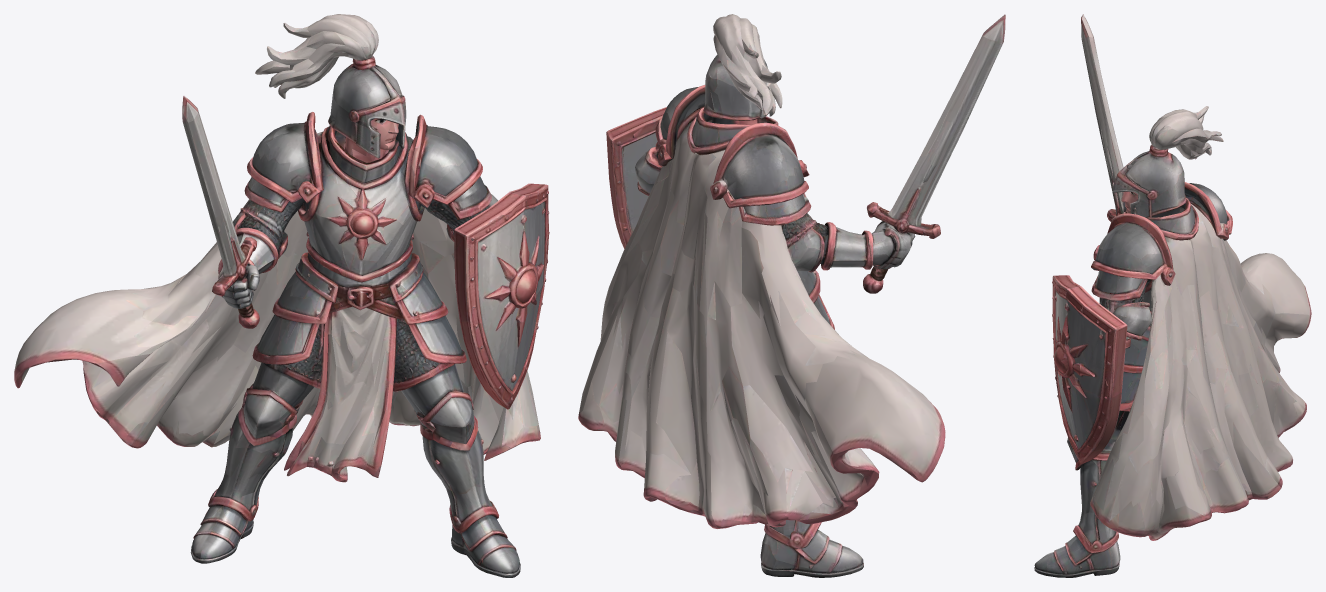
The model's file is warrior_white.glb.
3 views of the same model, side by side, from view 1: azimuth 30°, elevation 25°; view 2: azimuth 150°, elevation 25°; view 3: azimuth 270°, elevation 25° (orthographic). The views are drawn at different scales.
Size of the model in its own units: 1.62 by 1.9 by 1.09.
1 material, 1 textured.
